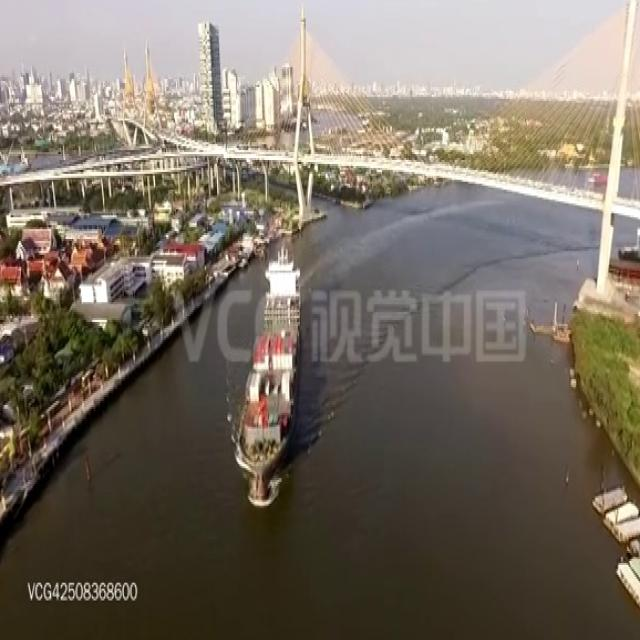cargoship: (229, 243, 300, 507)
